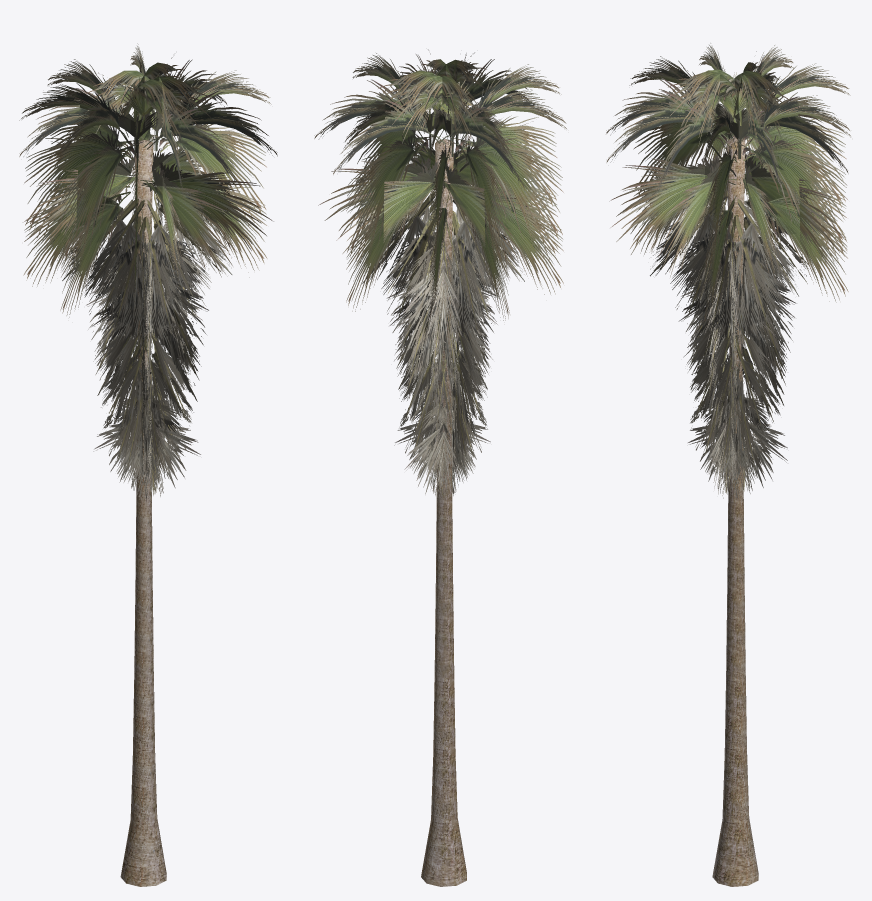
File: S_Palm_2_2.fbx
3 views of the same model, side by side, from view 1: azimuth 30°, elevation 25°; view 2: azimuth 150°, elevation 25°; view 3: azimuth 270°, elevation 25° (orthographic).
Parts seen in each view (by area): view 1: Atlas_1, Atlas_0; view 2: Atlas_1, Atlas_0; view 3: Atlas_1, Atlas_0.
Boxes of the visible parts, x1,y1,x2,y2 form: Atlas_1: (19,43,277,500); Atlas_0: (120,140,166,886); Atlas_1: (314,49,566,499); Atlas_0: (421,139,466,886); Atlas_1: (606,43,850,500); Atlas_0: (712,137,758,886).
Bounding box in the file's own units: 272 × 938 × 268.
Materials: 1 (1 with a texture image).
